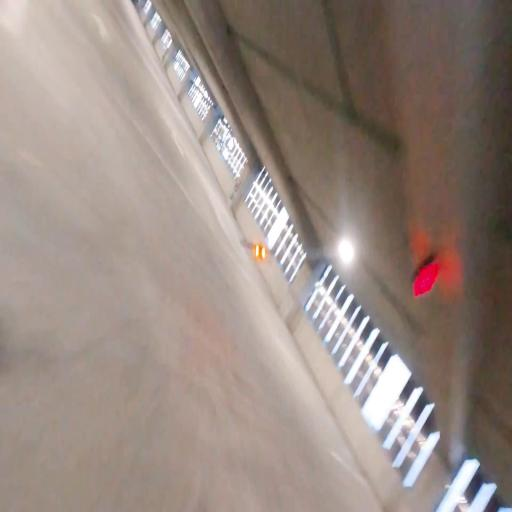uav: (237, 237, 282, 263)
